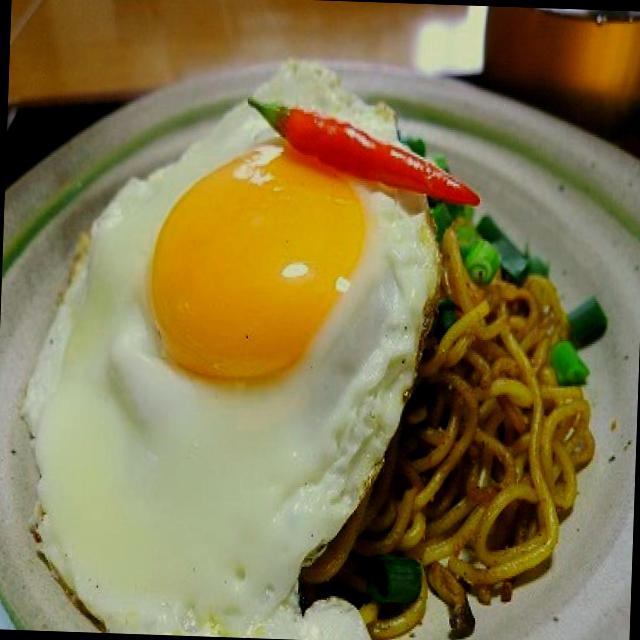Egg: (27, 46, 405, 640)
Pasta: (397, 215, 620, 630)
